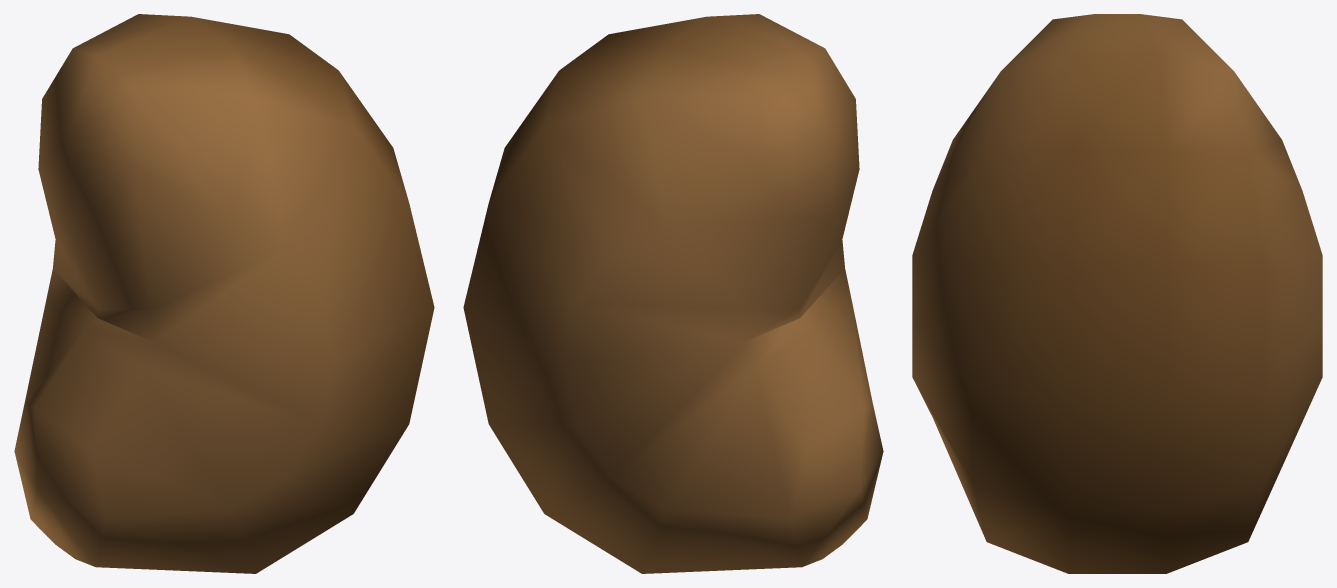
The model's file is PotatoProduce.fbx.
The picture shows the model from 3 angles, left to right: view 1: azimuth 30°, elevation 25°; view 2: azimuth 150°, elevation 25°; view 3: azimuth 270°, elevation 25°; orthographic projection.
Visible parts, largest first — view 1: Potato; view 2: Potato; view 3: Potato.
Boxes of the visible parts, x1,y1,x2,y2 form: Potato: (14,14,434,573); Potato: (463,14,883,573); Potato: (912,14,1322,573).
Size of the model in its own units: 34.91 by 47.58 by 34.48.
